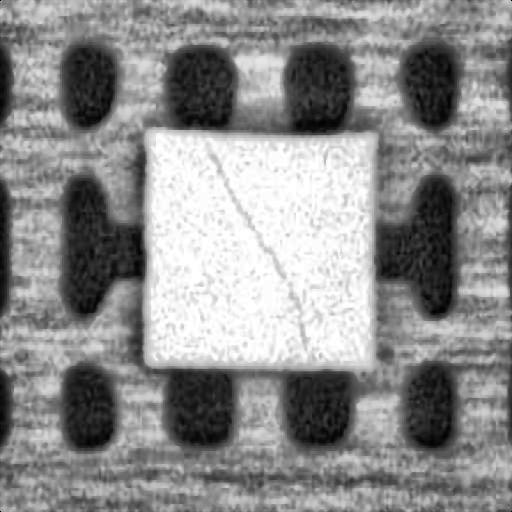DIE_CRACK: (204, 143, 308, 348)
